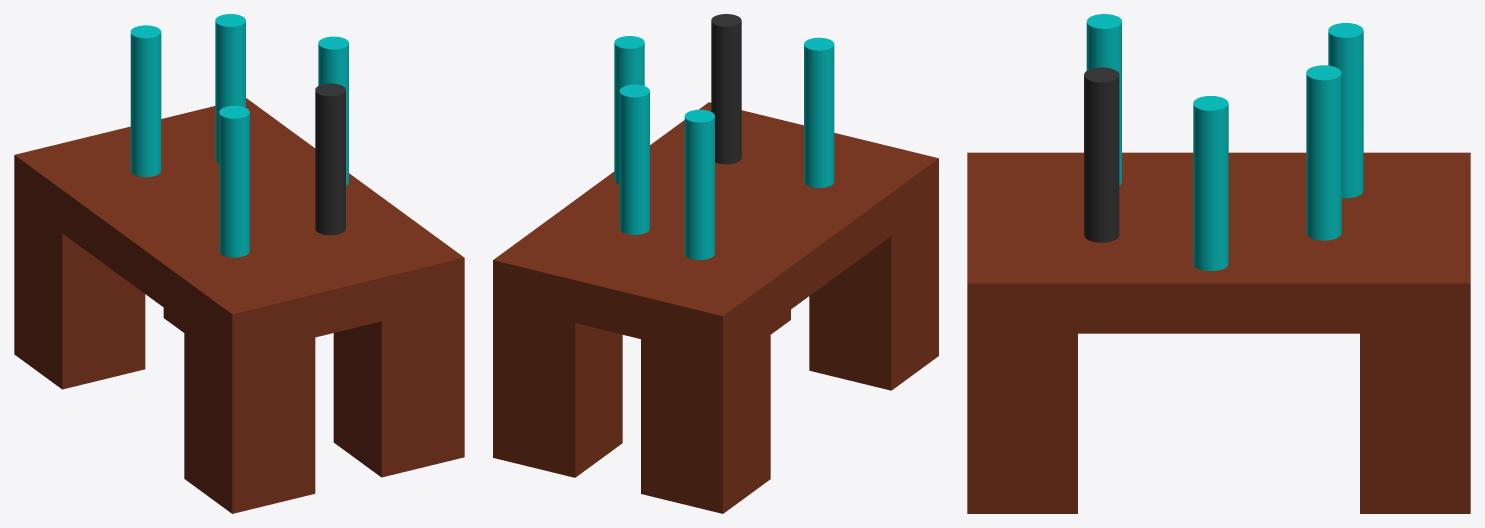
File: real_can_world_10_cans.dae
3 renders of one model, left to right at view 1: azimuth 30°, elevation 25°; view 2: azimuth 150°, elevation 25°; view 3: azimuth 270°, elevation 25°, orthographic. The views are drawn at different scales.
Parts seen in each view (by area): view 1: base (×9); view 2: base (×9); view 3: base (×8).
Boxes of the visible parts, x1,y1,x2,y2 form: base (×9): [14, 14, 464, 513]; base (×9): [493, 14, 938, 513]; base (×8): [967, 14, 1470, 513].
Size of the model in its own units: 0.56 by 0.91 by 0.791.
